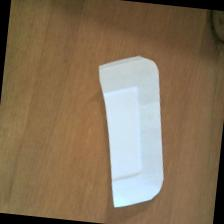Cut: (77, 48, 182, 219)
